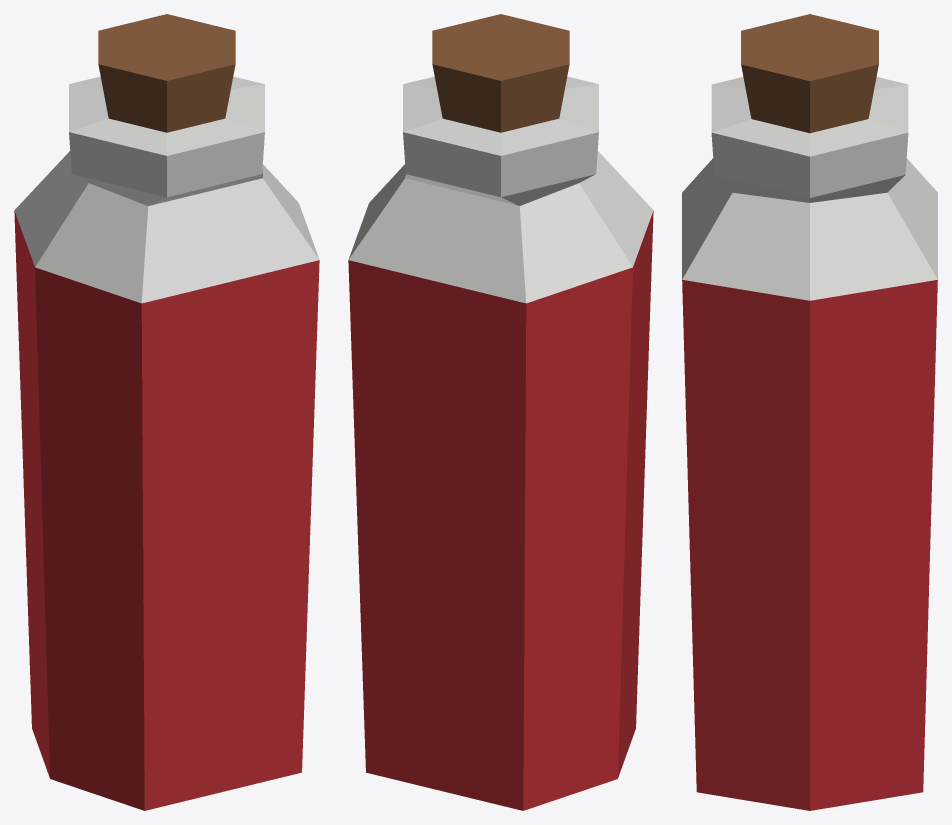
File: fantasy_potion.fbx
3 renders of one model, left to right at view 1: azimuth 30°, elevation 25°; view 2: azimuth 150°, elevation 25°; view 3: azimuth 270°, elevation 25°, orthographic.
Visible parts, largest first — view 1: fantasy_potion; view 2: fantasy_potion; view 3: fantasy_potion.
Part boxes in pixels (bbox=[...]): fantasy_potion: bbox=[14, 14, 319, 810]; fantasy_potion: bbox=[348, 14, 653, 810]; fantasy_potion: bbox=[682, 14, 937, 810].
Size of the model in its own units: 78.55 by 200 by 65.65.
